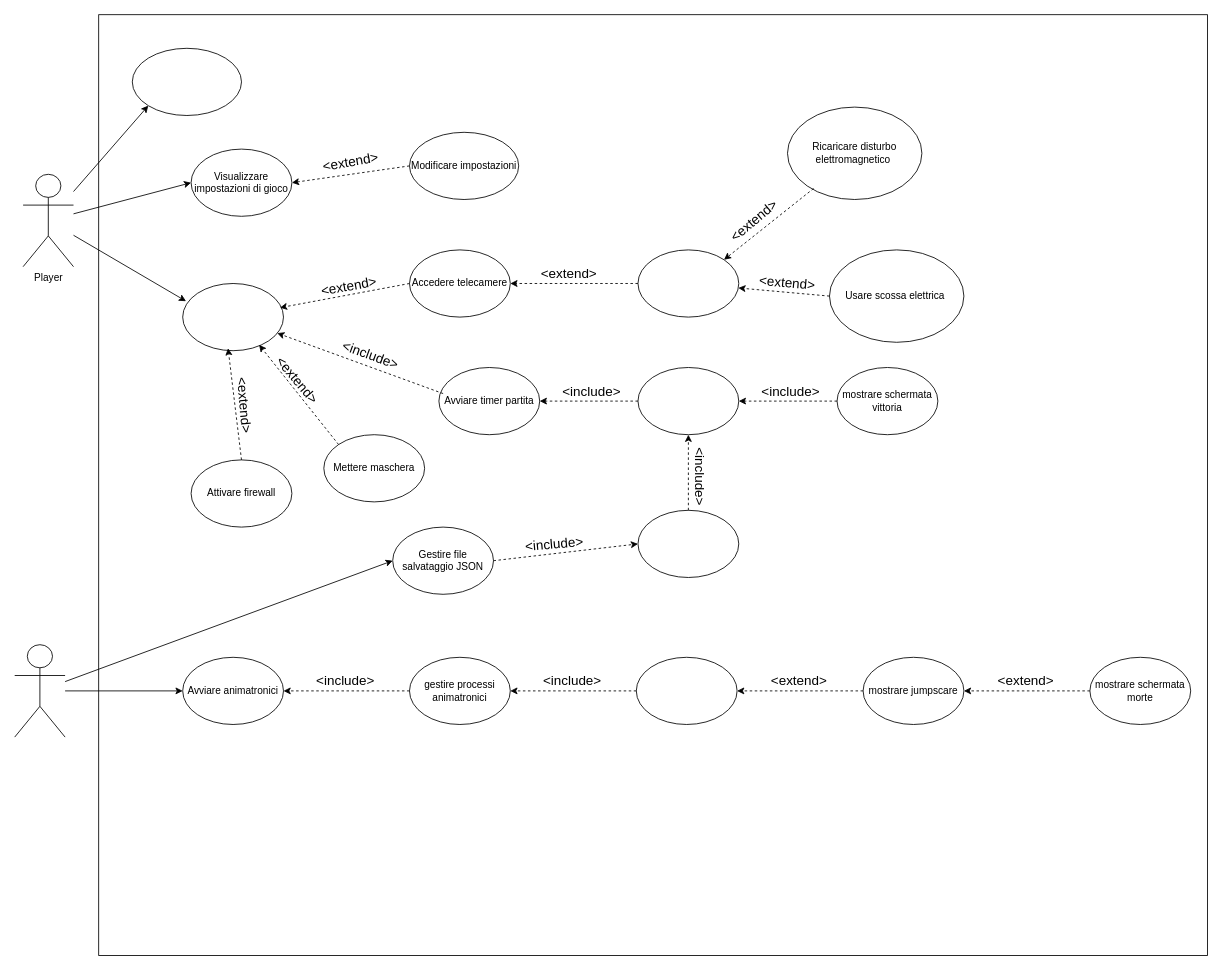
Some shapes in this 1222 by 970 pixel diagram are drawn without their labels. The shapes that lost their labels are listed below. From the top down, each one's centre as x and y in pixels, then its label:
At point 186,81: "Visualizzare manuale di gioco".
At point 688,283: "Selezionare telecamera".
At point 233,317: "Avviare partita".
At point 688,401: "terminare partita".
At point 688,543: "salvare progressi".
At point 39,690: "Sistema".
At point 686,690: "gestire attacchi".
